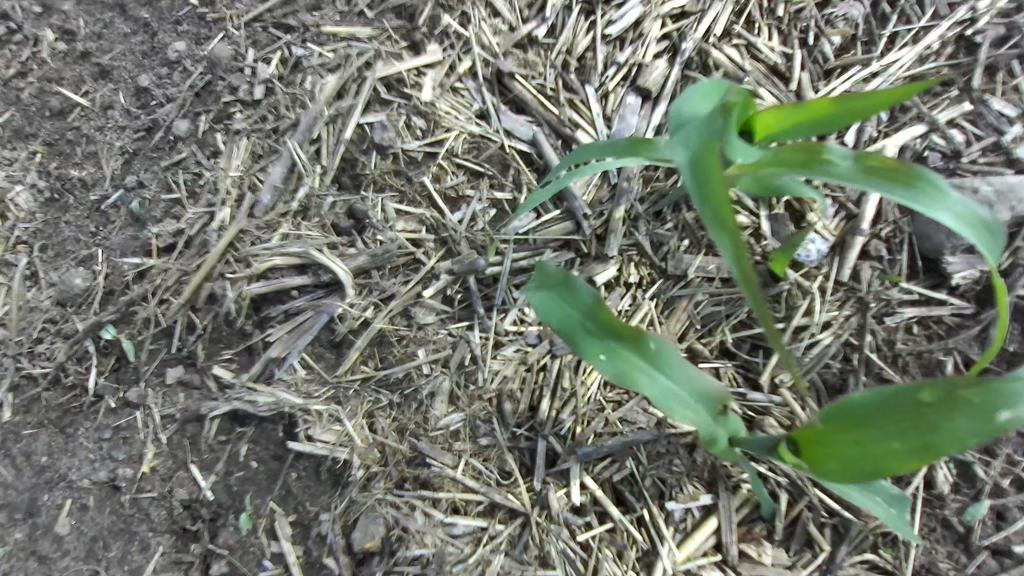BroWeed: (97, 321, 143, 364), (957, 495, 995, 529), (235, 491, 260, 537), (126, 188, 152, 217), (878, 273, 902, 284), (947, 461, 958, 476), (579, 494, 590, 506), (622, 478, 631, 492), (638, 465, 645, 478)
Maize: (485, 74, 1010, 401)
